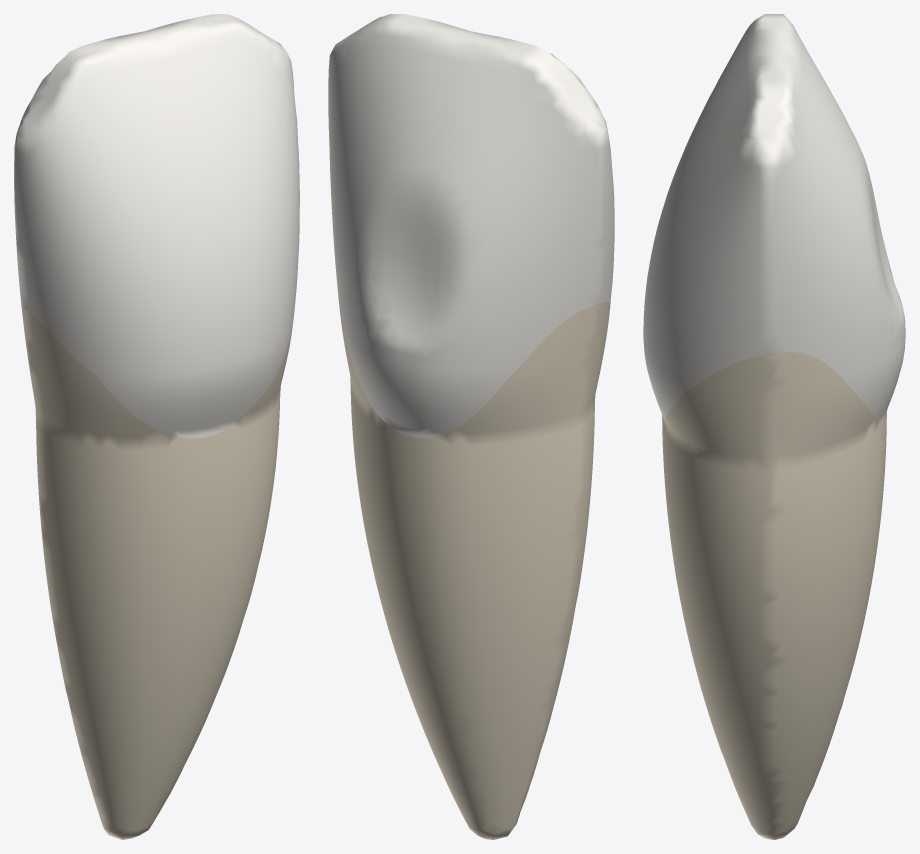
3 renders of one model, left to right at view 1: azimuth 30°, elevation 25°; view 2: azimuth 150°, elevation 25°; view 3: azimuth 270°, elevation 25°, orthographic.
Parts seen in each view (by area): view 1: root, V, D, I, M; view 2: root, L, D, I, M; view 3: root, M, L, V, I.
Part boxes in pixels (bbox=[...]): root: bbox=[20, 299, 293, 839]; V: bbox=[95, 78, 291, 438]; D: bbox=[14, 87, 122, 380]; I: bbox=[38, 14, 277, 103]; M: bbox=[226, 38, 299, 341]; root: bbox=[337, 283, 610, 839]; L: bbox=[343, 76, 506, 438]; D: bbox=[495, 81, 614, 379]; I: bbox=[344, 14, 580, 101]; M: bbox=[328, 35, 392, 338]; root: bbox=[662, 352, 886, 839]; M: bbox=[681, 116, 853, 393]; L: bbox=[815, 66, 905, 419]; V: bbox=[643, 66, 730, 419]; I: bbox=[729, 14, 819, 140].
Bounding box in the file's own units: 8.48 × 23.5 × 7.
